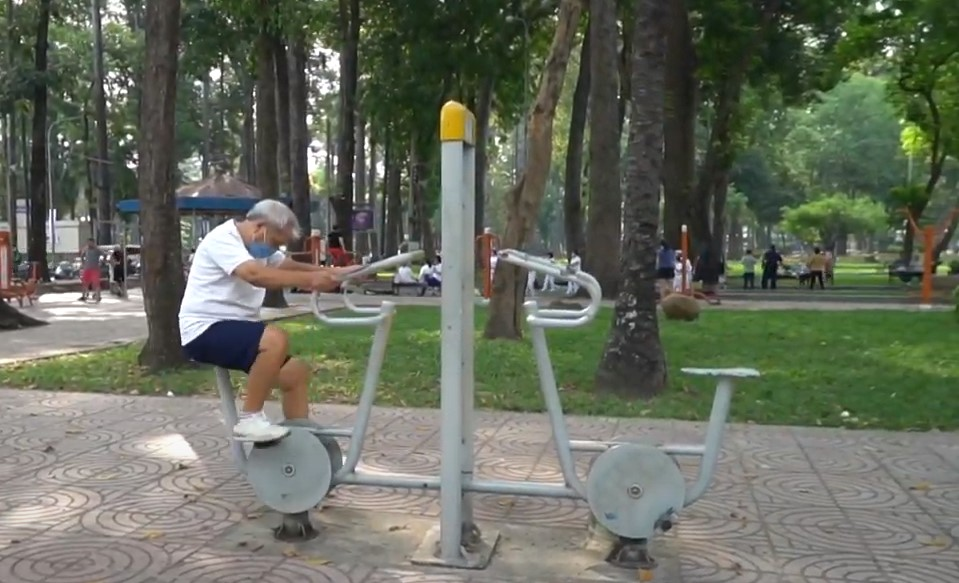face_with_mask: (240, 196, 302, 261)
